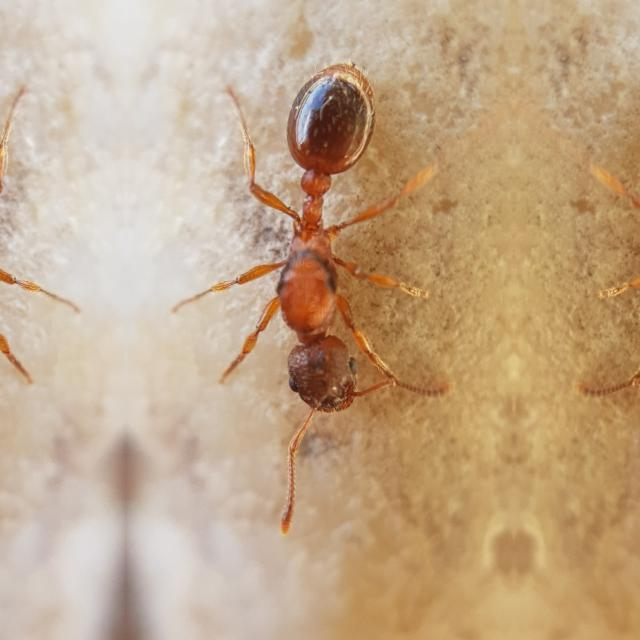Myrmica: (205, 71, 450, 499), (574, 71, 640, 499)
